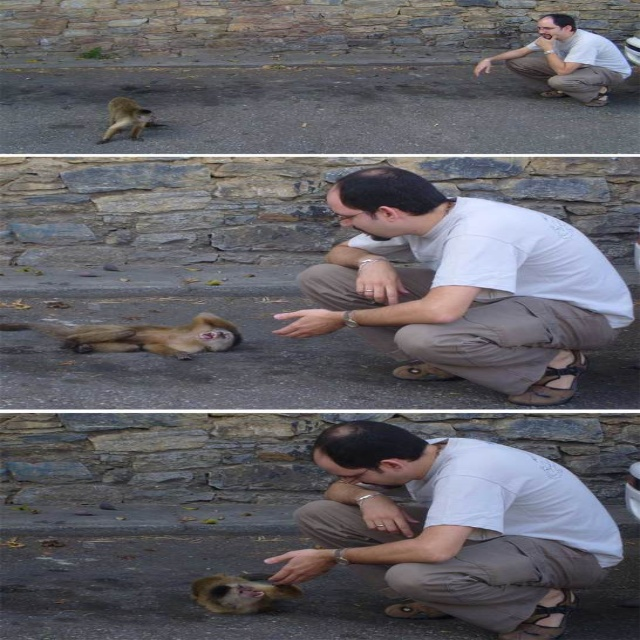Monkey: (0, 312, 236, 356), (189, 571, 298, 616), (105, 96, 171, 140)
